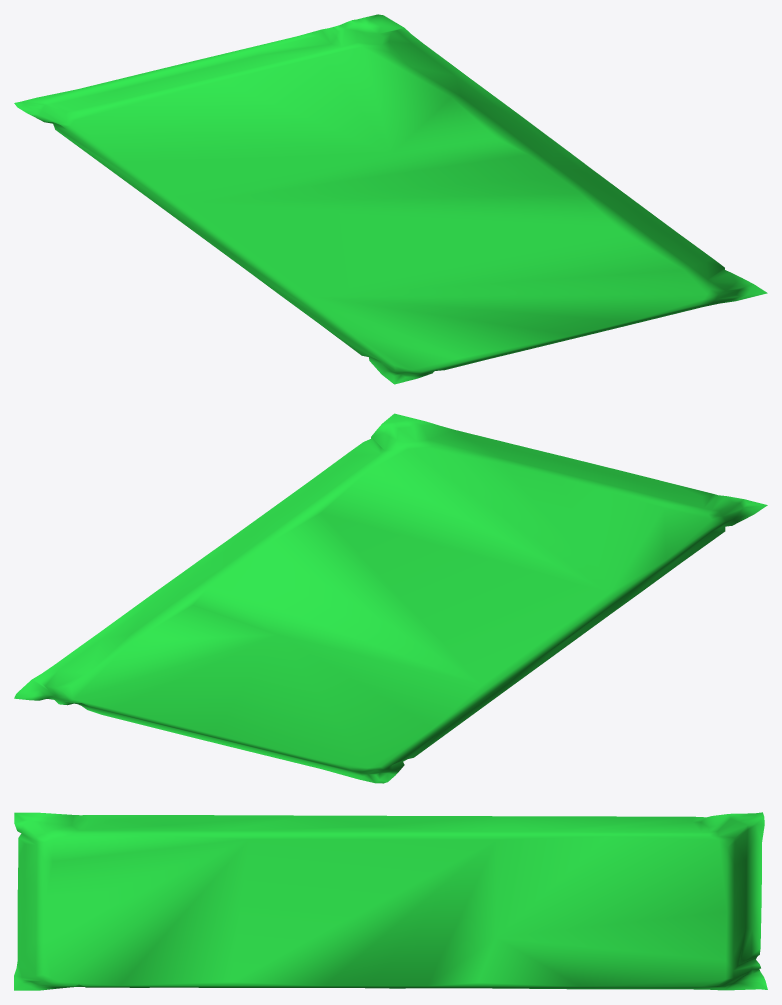
File: SM_Sterilization_Container_Cloth_4.FBX
3 views of the same model, one above another, from view 1: azimuth 30°, elevation 25°; view 2: azimuth 150°, elevation 25°; view 3: azimuth 270°, elevation 25° (orthographic). The views are drawn at different scales.
Visible parts, largest first — view 1: cloth; view 2: cloth; view 3: cloth.
Part boxes in pixels (x1,y1,x2,y2): cloth: (14, 14, 767, 384); cloth: (14, 413, 767, 783); cloth: (14, 812, 767, 990).
Bounding box in the file's own units: 35.55 × 63.49 × 1.08.
